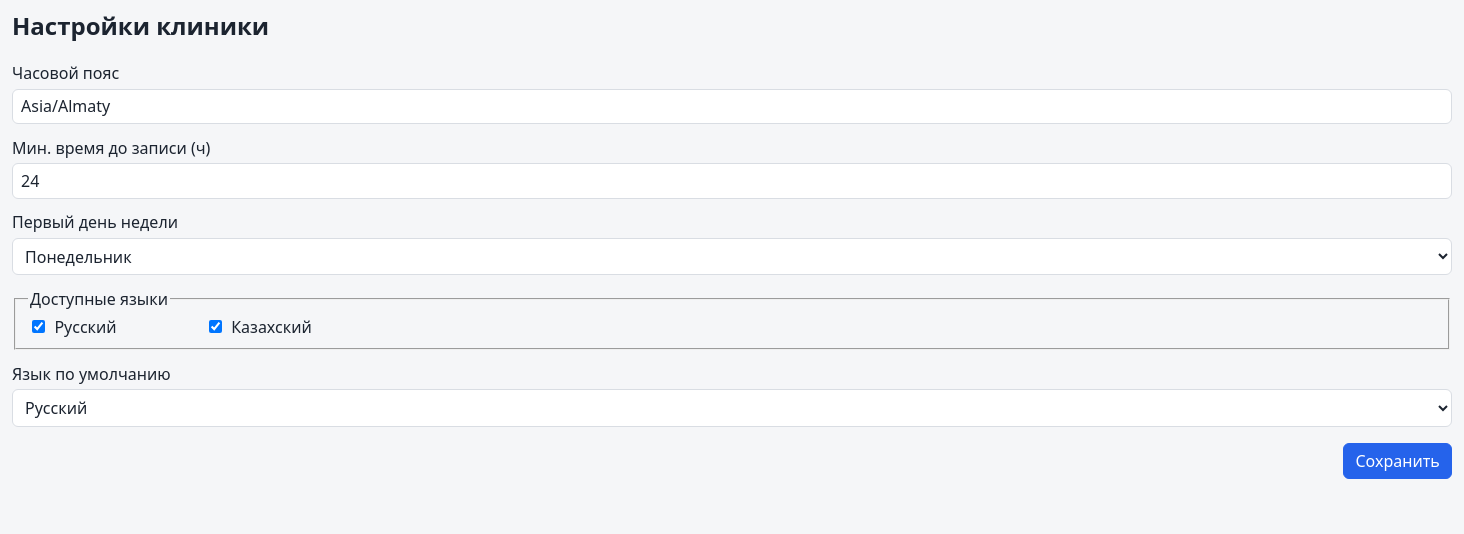
Test case: SettingsPage (FR-FXJEVE) › surfaces the server 422 code as a localized error (AC-FXJEVE.10/.12)
Click the button "Сохранить" at (1398, 461), box [1343, 442, 1452, 479]
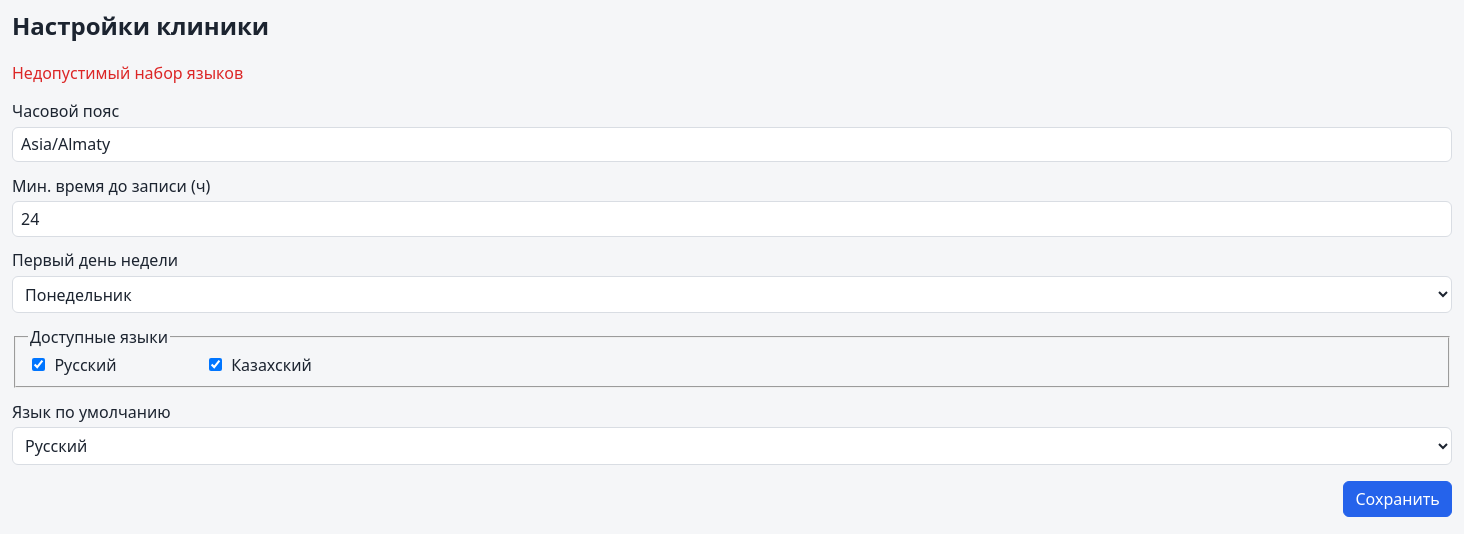
Now the message reads "Недопустимый набор языков", box [12, 62, 243, 84]
